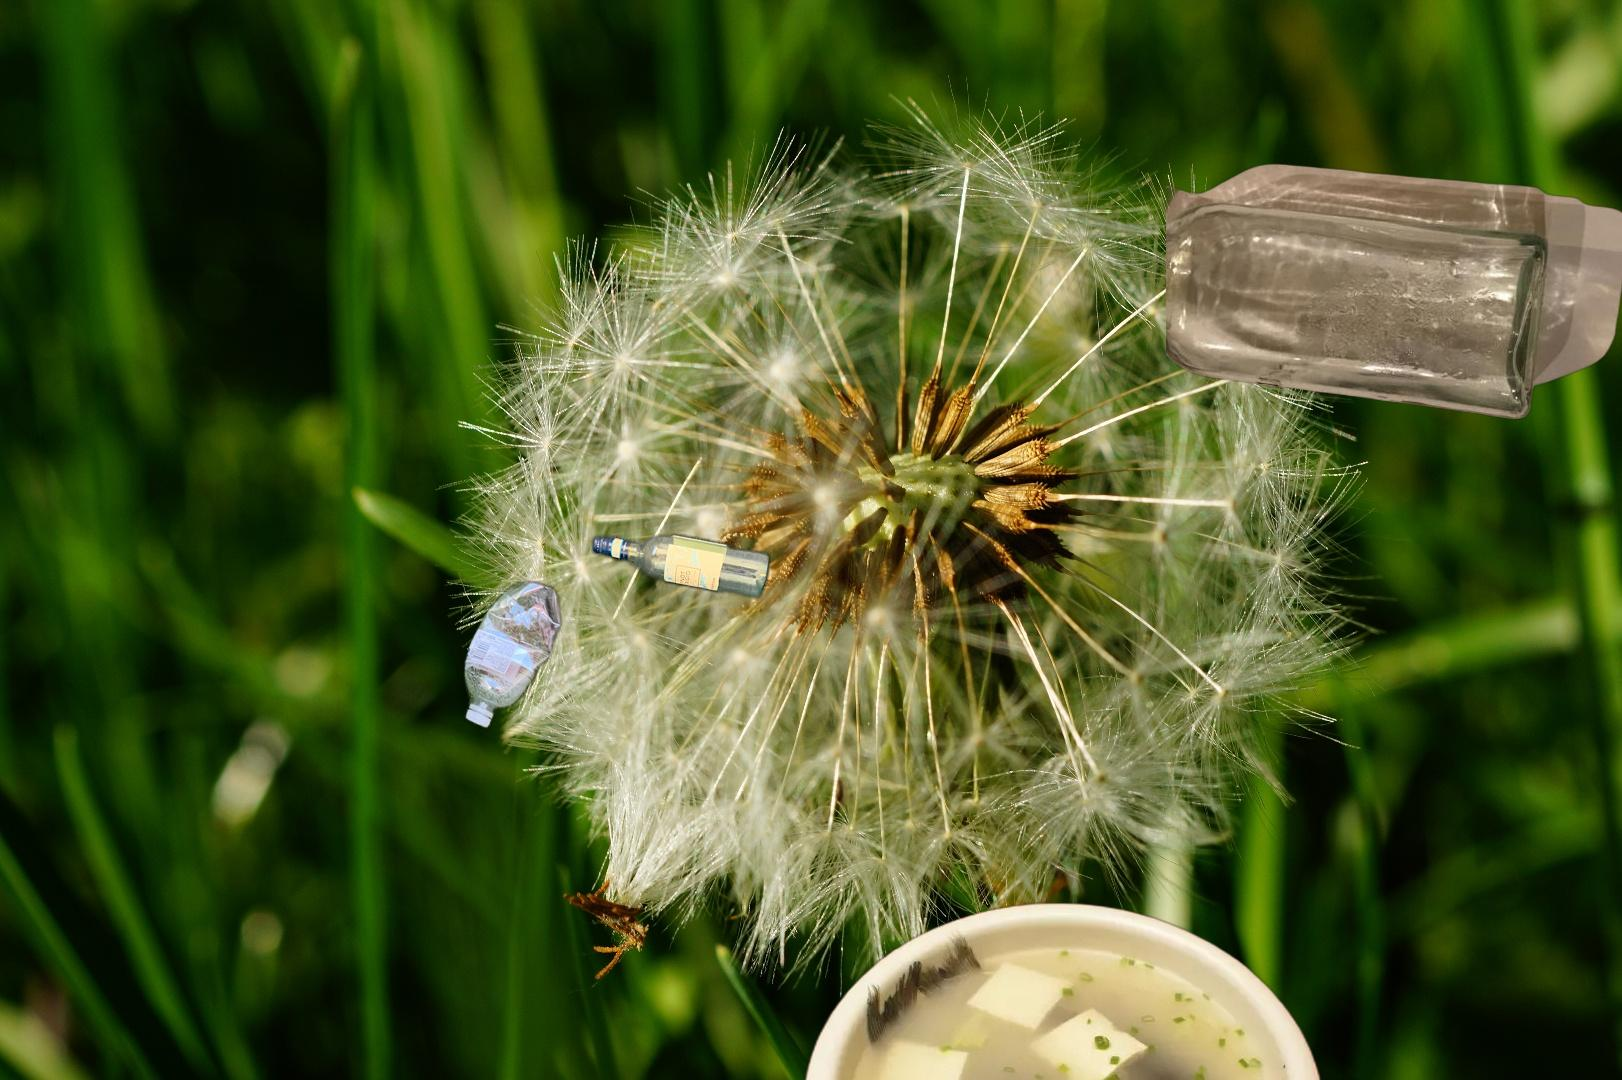biological: (798, 898, 1329, 1080)
glass: (1166, 162, 1622, 423), (588, 347, 929, 605)
plastic-bottles: (459, 576, 578, 747)
